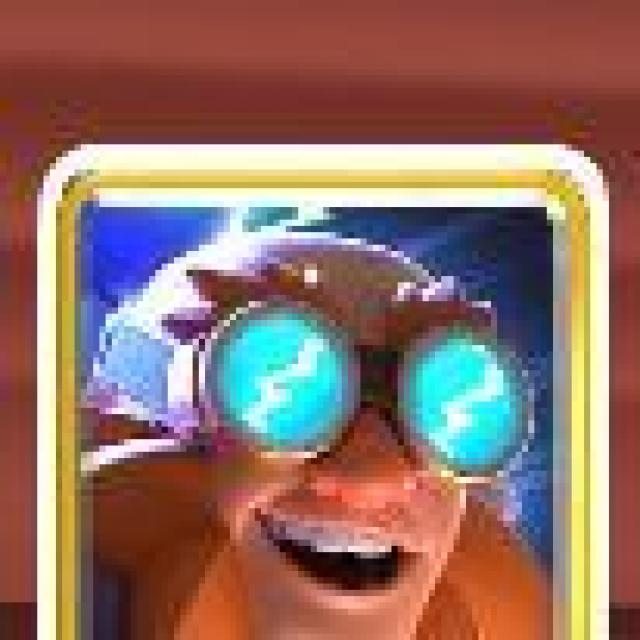Electro_Giant: (38, 141, 612, 640)
